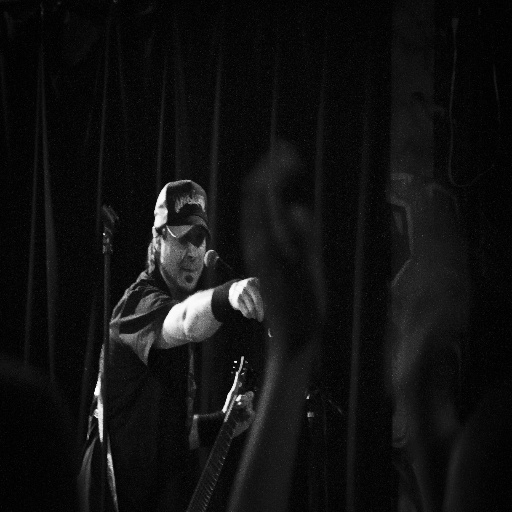hand: (240, 141, 324, 345), (392, 215, 468, 395), (220, 366, 257, 436), (220, 278, 264, 335)
